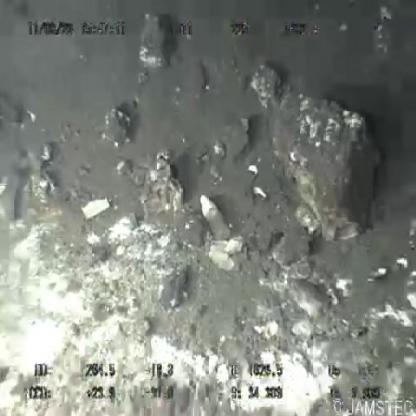Rác: (197, 192, 236, 247)
